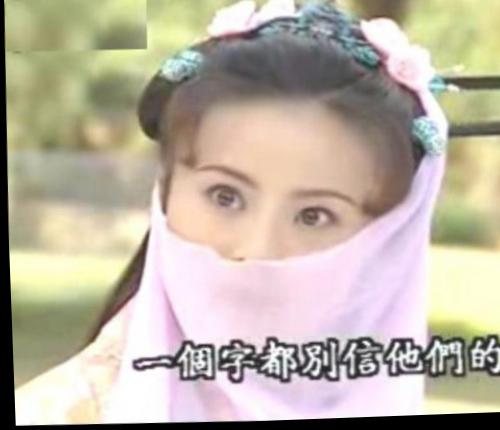WRONG: (163, 135, 370, 356)
